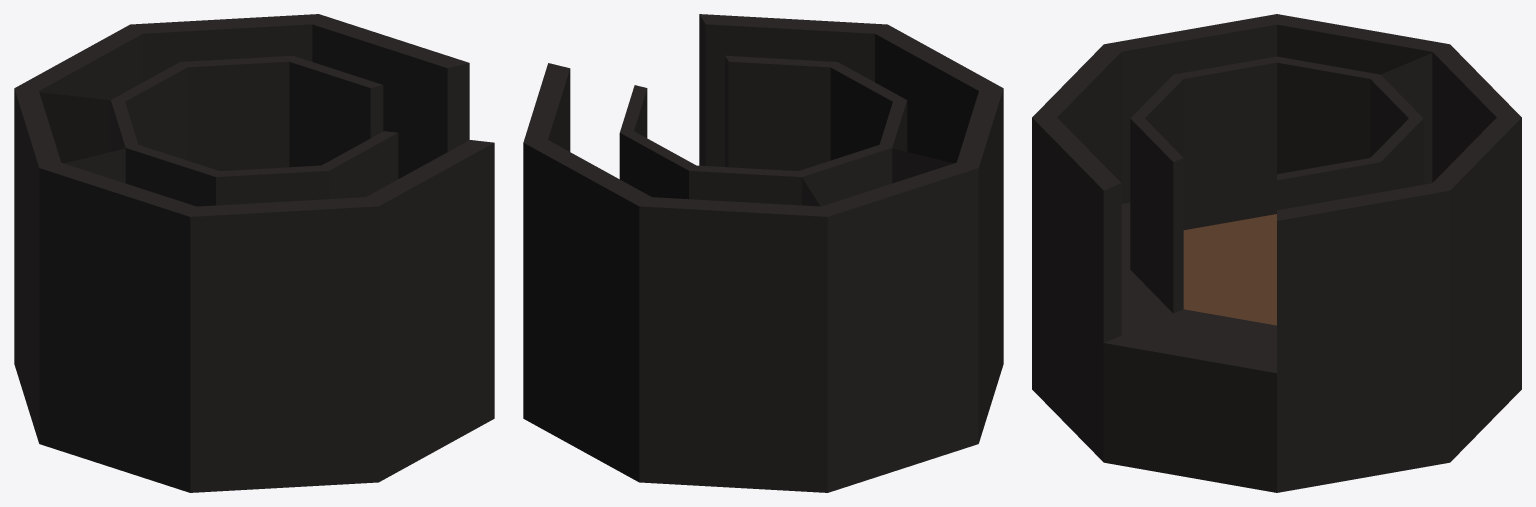
The model's file is Tutorial_Level.fbx.
The picture shows the model from 3 angles, left to right: view 1: azimuth 30°, elevation 25°; view 2: azimuth 150°, elevation 25°; view 3: azimuth 270°, elevation 25°; orthographic projection.
Visible parts, largest first — view 1: pCylinder2; view 2: pCylinder2; view 3: pCylinder2.
Boxes of the visible parts, x1,y1,x2,y2 form: pCylinder2: [14, 14, 494, 492]; pCylinder2: [523, 14, 1003, 492]; pCylinder2: [1032, 14, 1521, 492].
Bounding box in the file's own units: 371 × 227 × 371.
